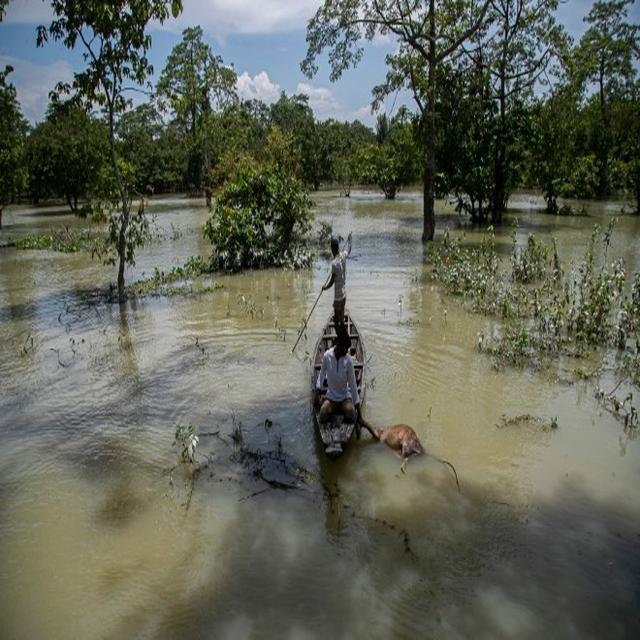Person-RiskLevel3: (297, 221, 373, 345), (313, 324, 374, 443)
